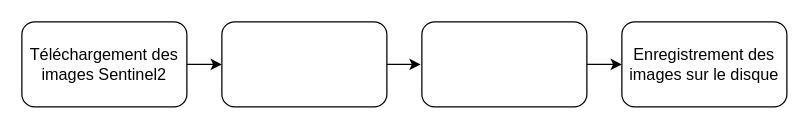
Some shapes in this 809 by 129 pixel diagram are drawn without their labels. Each missing label, with the centre of its shape:
"Découpage des images en 64x64 ou 32x32" goes at point (504, 64).
"Resampling des images à une résolution de 10 métres" goes at point (304, 64).
